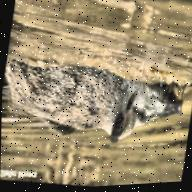boar: (1, 25, 192, 166)
